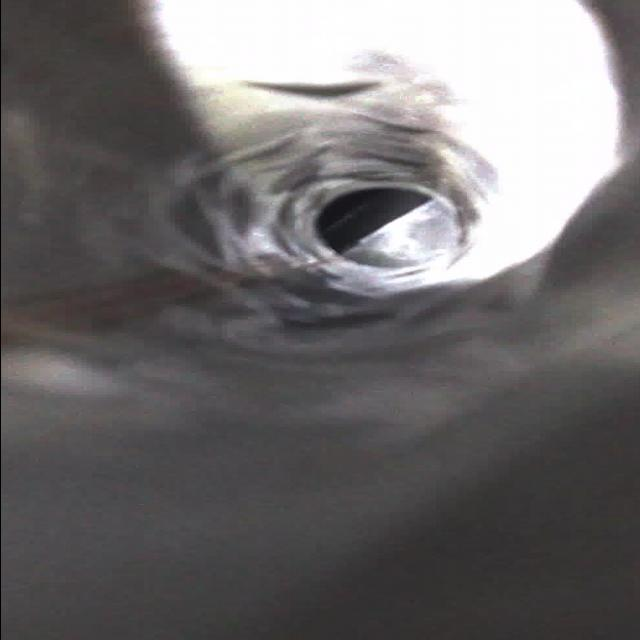crack: (334, 117, 438, 183), (208, 202, 300, 266), (221, 130, 311, 194)
